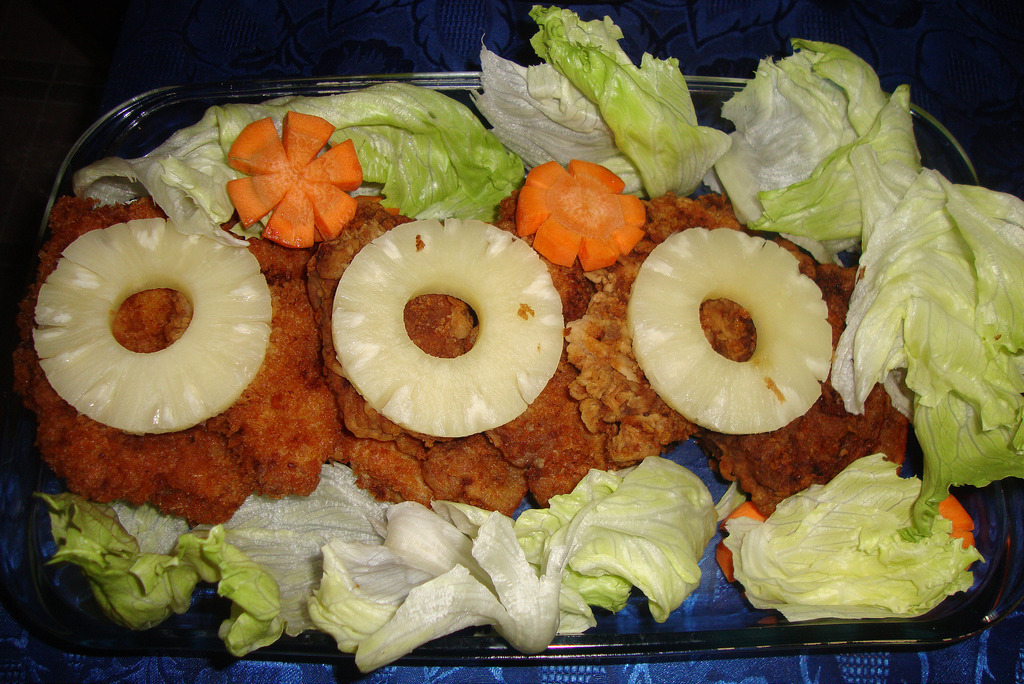chopped lettuce: (50, 497, 960, 660), (751, 31, 1024, 488), (126, 87, 714, 201)
